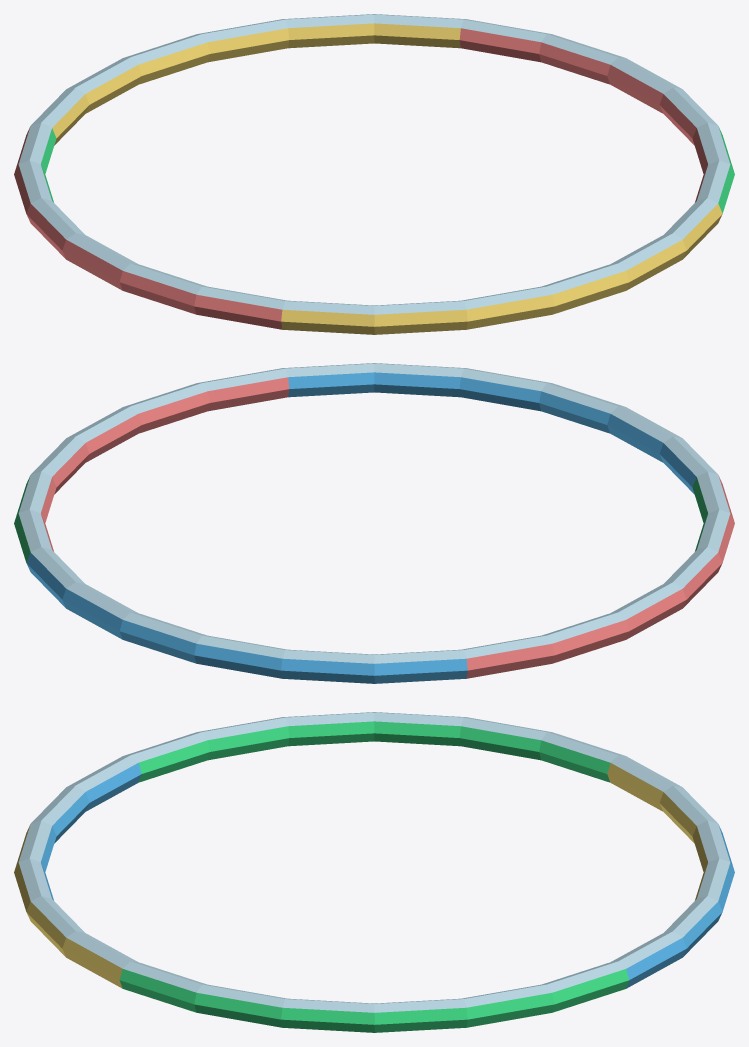
The model's file is pylon_ring_4.obj.
3 views of the same model, one above another, from view 1: azimuth 30°, elevation 25°; view 2: azimuth 150°, elevation 25°; view 3: azimuth 270°, elevation 25° (orthographic).
Parts seen in each view (by area): view 1: torus; view 2: torus; view 3: torus.
Part boxes in pixels (x1=…): torus: x1=14, y1=14, x2=734, y2=334; torus: x1=14, y1=363, x2=734, y2=683; torus: x1=14, y1=712, x2=734, y2=1032.
Size of the model in its own units: 0.7188 by 0.0312 by 0.7188.
Materials: 1 (1 with a texture image).
